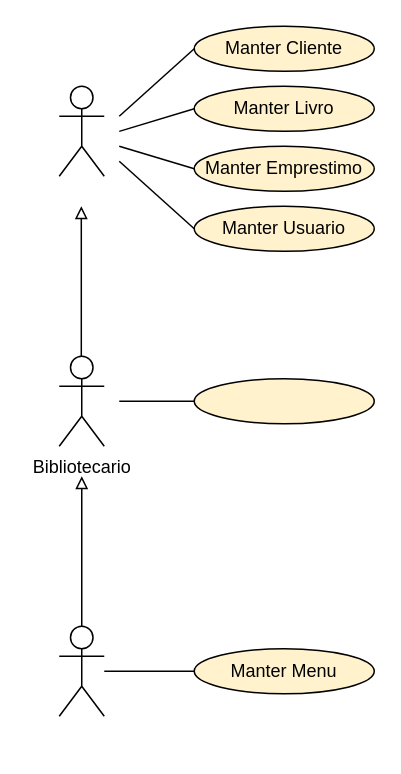
The diagram is 401 pixels wide and 774 high, and some of its shapes have lost their labels. Each missing label, with the box of its shape:
Administrador: (58, 625, 104, 716)
Funcionario: (58, 85, 104, 176)
Manter Perfil: (193, 377, 374, 424)
